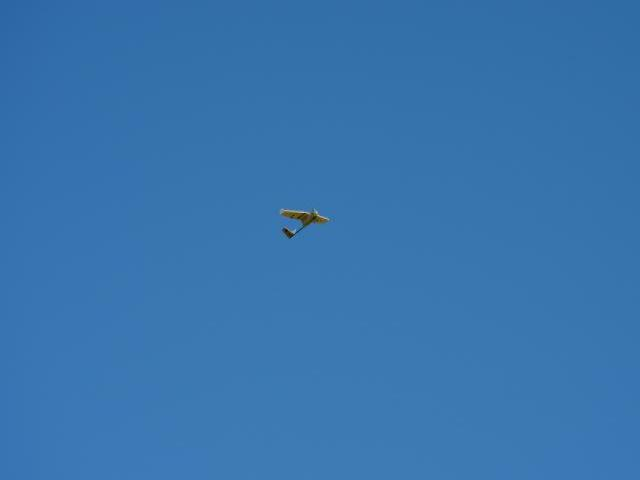iha: (276, 200, 335, 241)
